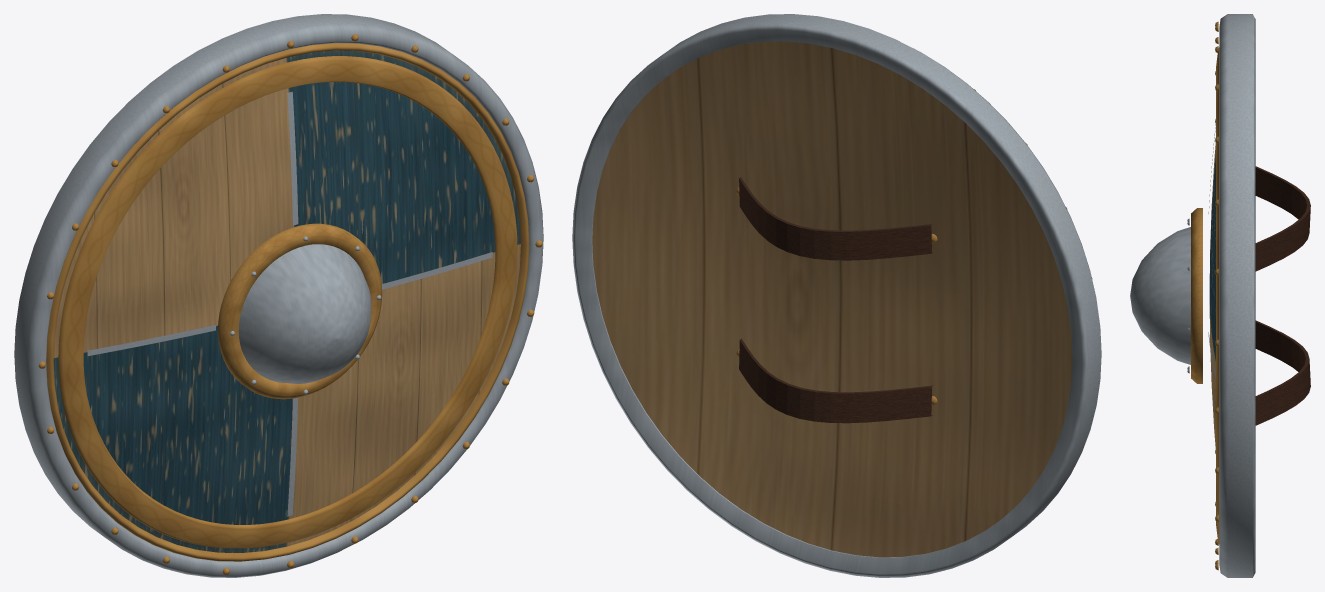
Rendered from escudo-de-la-bruma.glb.
The picture shows the model from 3 angles, left to right: view 1: azimuth 30°, elevation 25°; view 2: azimuth 150°, elevation 25°; view 3: azimuth 270°, elevation 25°; orthographic projection. The views are drawn at different scales.
Visible parts, largest first — view 1: Escudo de la Bruma; view 2: Escudo de la Bruma; view 3: Escudo de la Bruma.
Boxes of the visible parts, x1=… form: Escudo de la Bruma: x1=14, y1=14, x2=543, y2=577; Escudo de la Bruma: x1=572, y1=14, x2=1101, y2=577; Escudo de la Bruma: x1=1130, y1=14, x2=1310, y2=577.
Bounding box in the file's own units: 0.966 × 0.966 × 0.3094.
4 materials, 4 textured.
